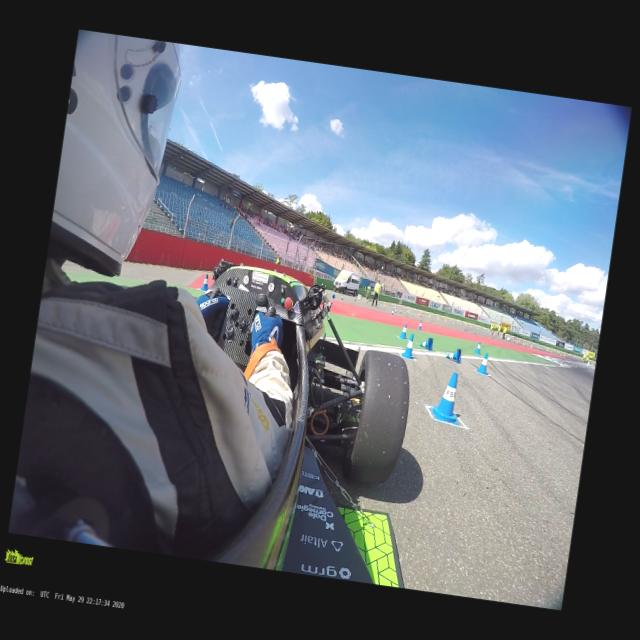blue_cone: (431, 371, 463, 424), (400, 332, 417, 361), (476, 350, 492, 376), (445, 346, 463, 364), (419, 336, 434, 351), (398, 322, 410, 340), (200, 274, 210, 291), (473, 341, 482, 354), (389, 308, 395, 316), (417, 322, 423, 329), (340, 294, 344, 300), (332, 293, 336, 299), (353, 295, 357, 301), (393, 308, 397, 314), (399, 308, 402, 312)
